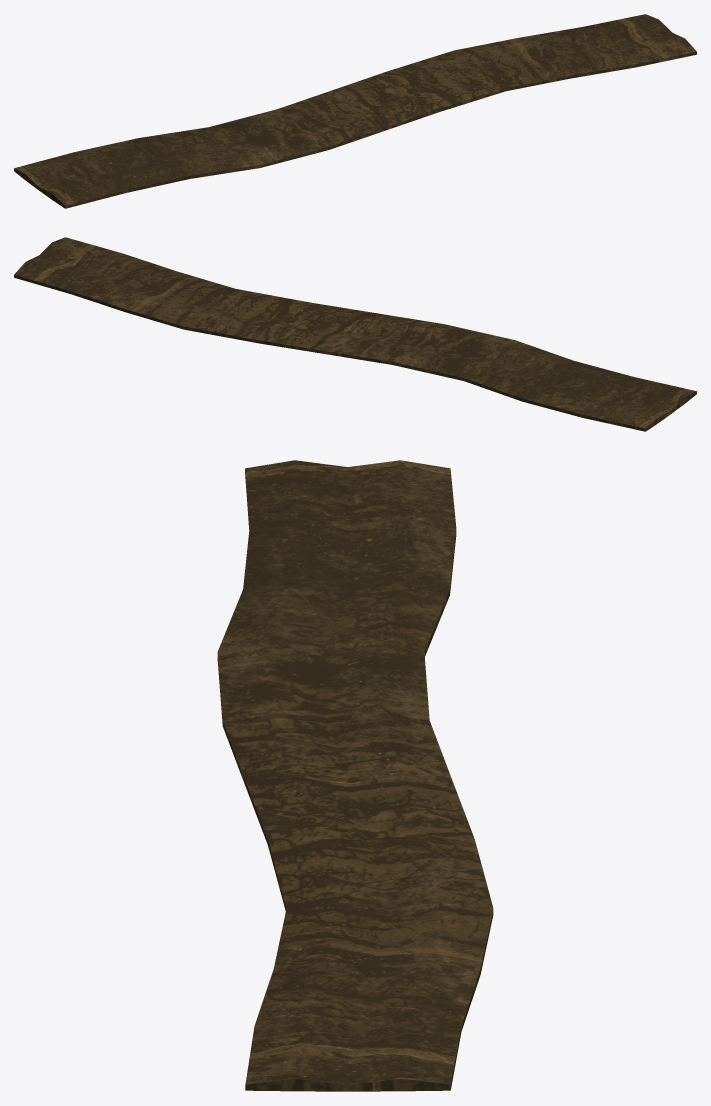
The model's file is Path.fbx.
The picture shows the model from 3 angles, top to bottom: view 1: azimuth 30°, elevation 25°; view 2: azimuth 150°, elevation 25°; view 3: azimuth 270°, elevation 25°; orthographic projection. The views are drawn at different scales.
Parts seen in each view (by area): view 1: Plane.003; view 2: Plane.003; view 3: Plane.003.
Boxes of the visible parts, x1=… form: Plane.003: x1=14, y1=14, x2=696, y2=208; Plane.003: x1=14, y1=237, x2=696, y2=431; Plane.003: x1=217, y1=460, x2=493, y2=1091.
Size of the model in its own units: 3647 by 38.81 by 688.
